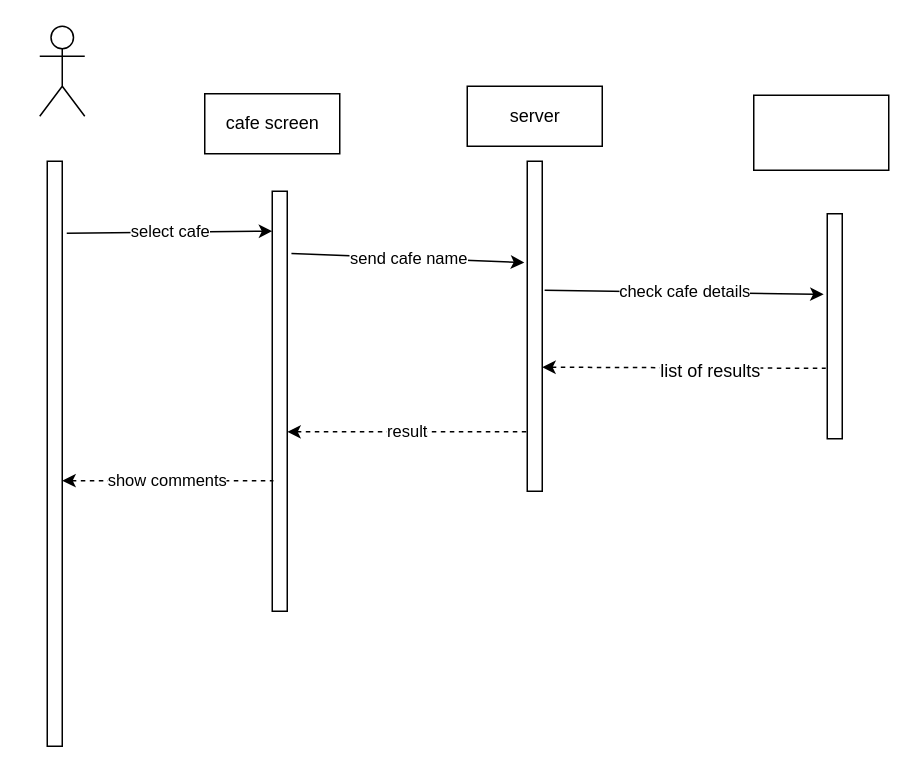
Some shapes in this 915 by 773 pixel diagram are drawn without their labels. The shapes that lost their labels are listed below. From the top down, each one's box as (x1, y1, x2, y2) in pixels, then its label:
(38, 25, 85, 116): customer
(752, 94, 889, 170): DB: comments
